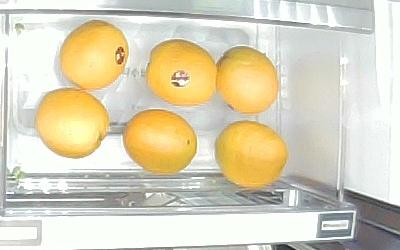orange: (35, 88, 109, 160), (58, 19, 129, 92), (214, 121, 288, 189), (122, 109, 198, 175), (146, 40, 218, 106), (216, 45, 280, 115)
